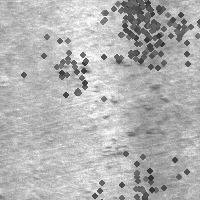rolled-in_scale: (12, 14, 120, 122), (76, 56, 175, 158), (91, 0, 187, 86), (76, 137, 192, 200), (133, 0, 200, 66), (97, 0, 167, 45)
